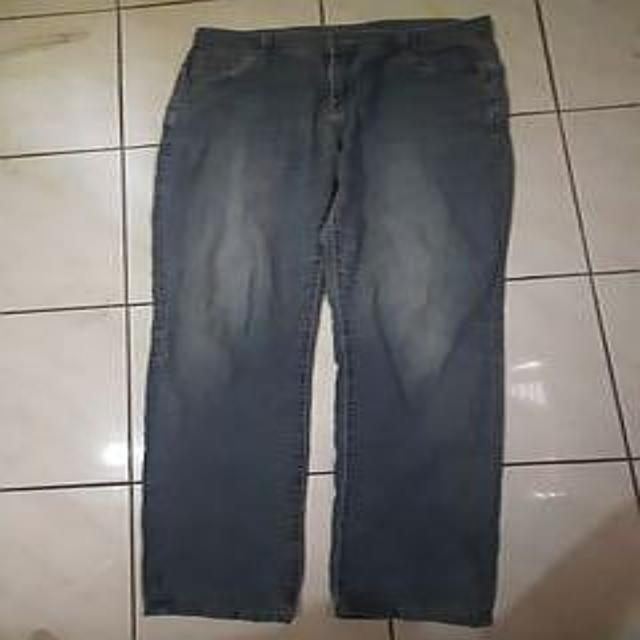TROUSER: (114, 10, 577, 633)
